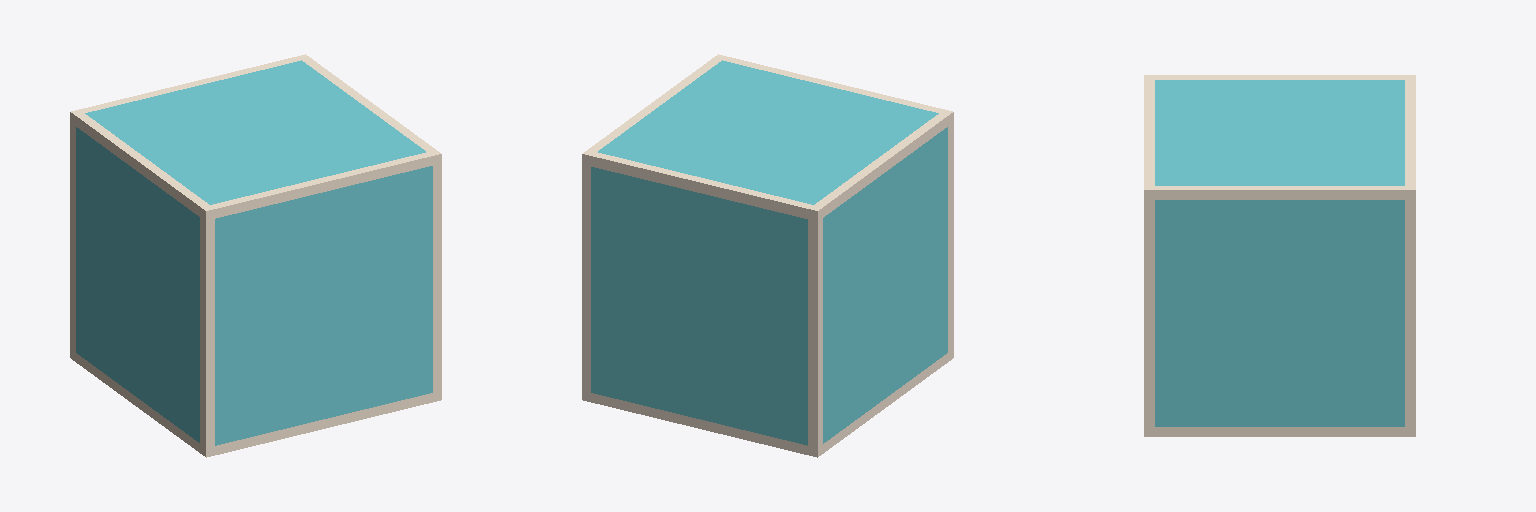
3 renders of one model, left to right at view 1: azimuth 30°, elevation 25°; view 2: azimuth 150°, elevation 25°; view 3: azimuth 270°, elevation 25°, orthographic.
Parts seen in each view (by area): view 1: Cube; view 2: Cube; view 3: Cube.
Boxes of the visible parts, x1=… form: Cube: x1=70, y1=54, x2=441, y2=457; Cube: x1=582, y1=54, x2=953, y2=457; Cube: x1=1144, y1=75, x2=1415, y2=436.
Size of the model in its own units: 2 by 2 by 2.
Materials: 1 (1 with a texture image).